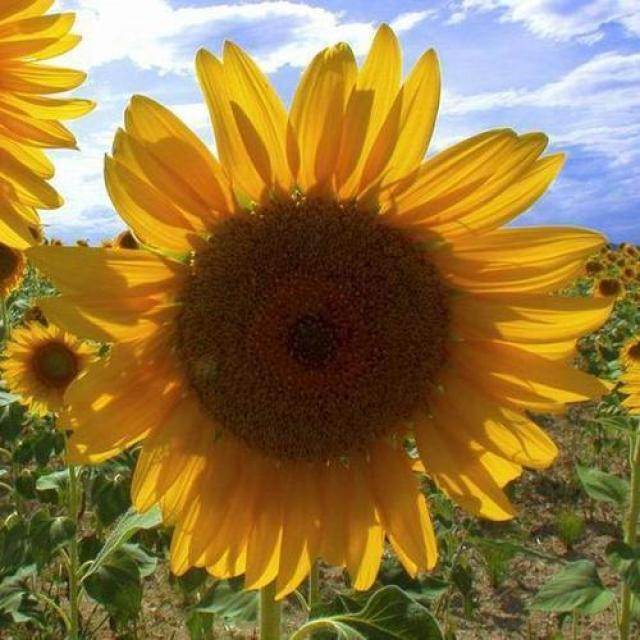sunflower: (15, 22, 628, 640), (4, 315, 101, 420)
